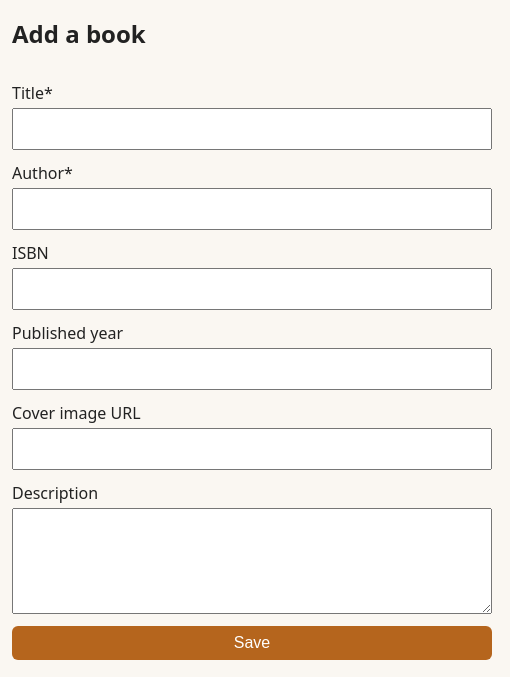
Test case: add book › posts the form and opens the new book
This screenshot has width=510, height=677.
Type "Emma" into the field labelled "Title*". click: coordinates (252, 129)
box: [12, 108, 492, 150]
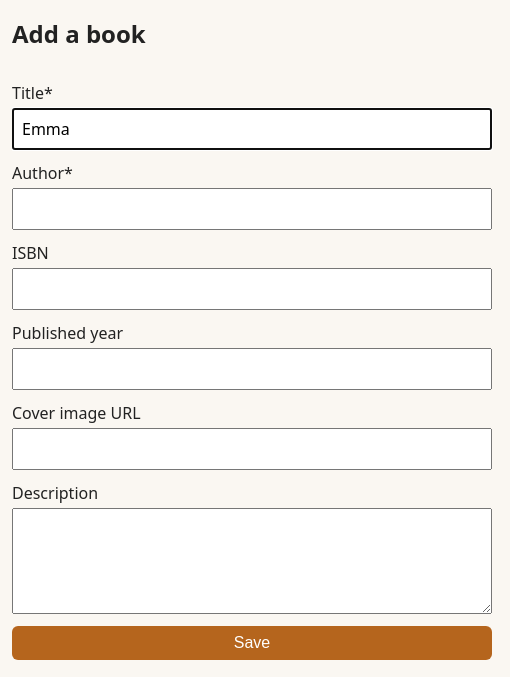
Type "Jane Austen" into the field labelled "Author*". click: coordinates (252, 209)
box: [12, 188, 492, 230]
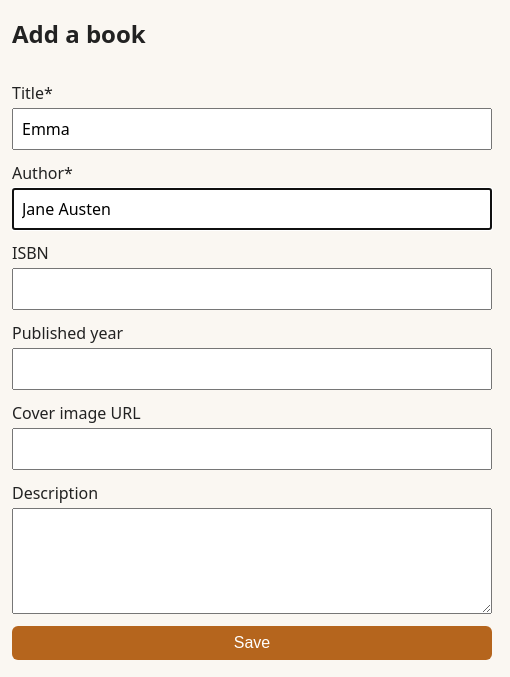
Type "1815" into the number field labelled "Published year". click: coordinates (252, 369)
box: [12, 348, 492, 390]
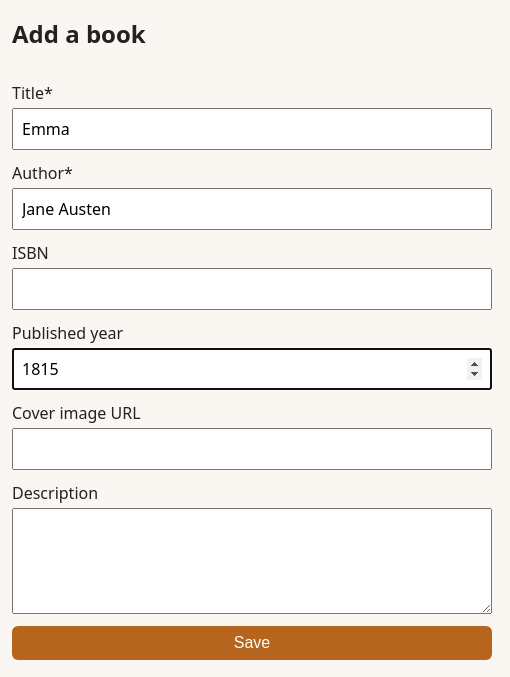
Click the button "Save". click: coordinates (252, 643)
box: [12, 626, 492, 660]
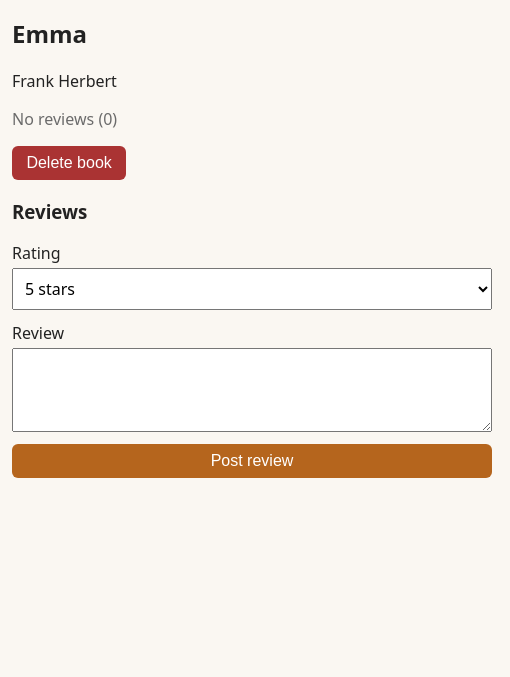
Now the heading "Emma" is shown, box [12, 17, 87, 50]
